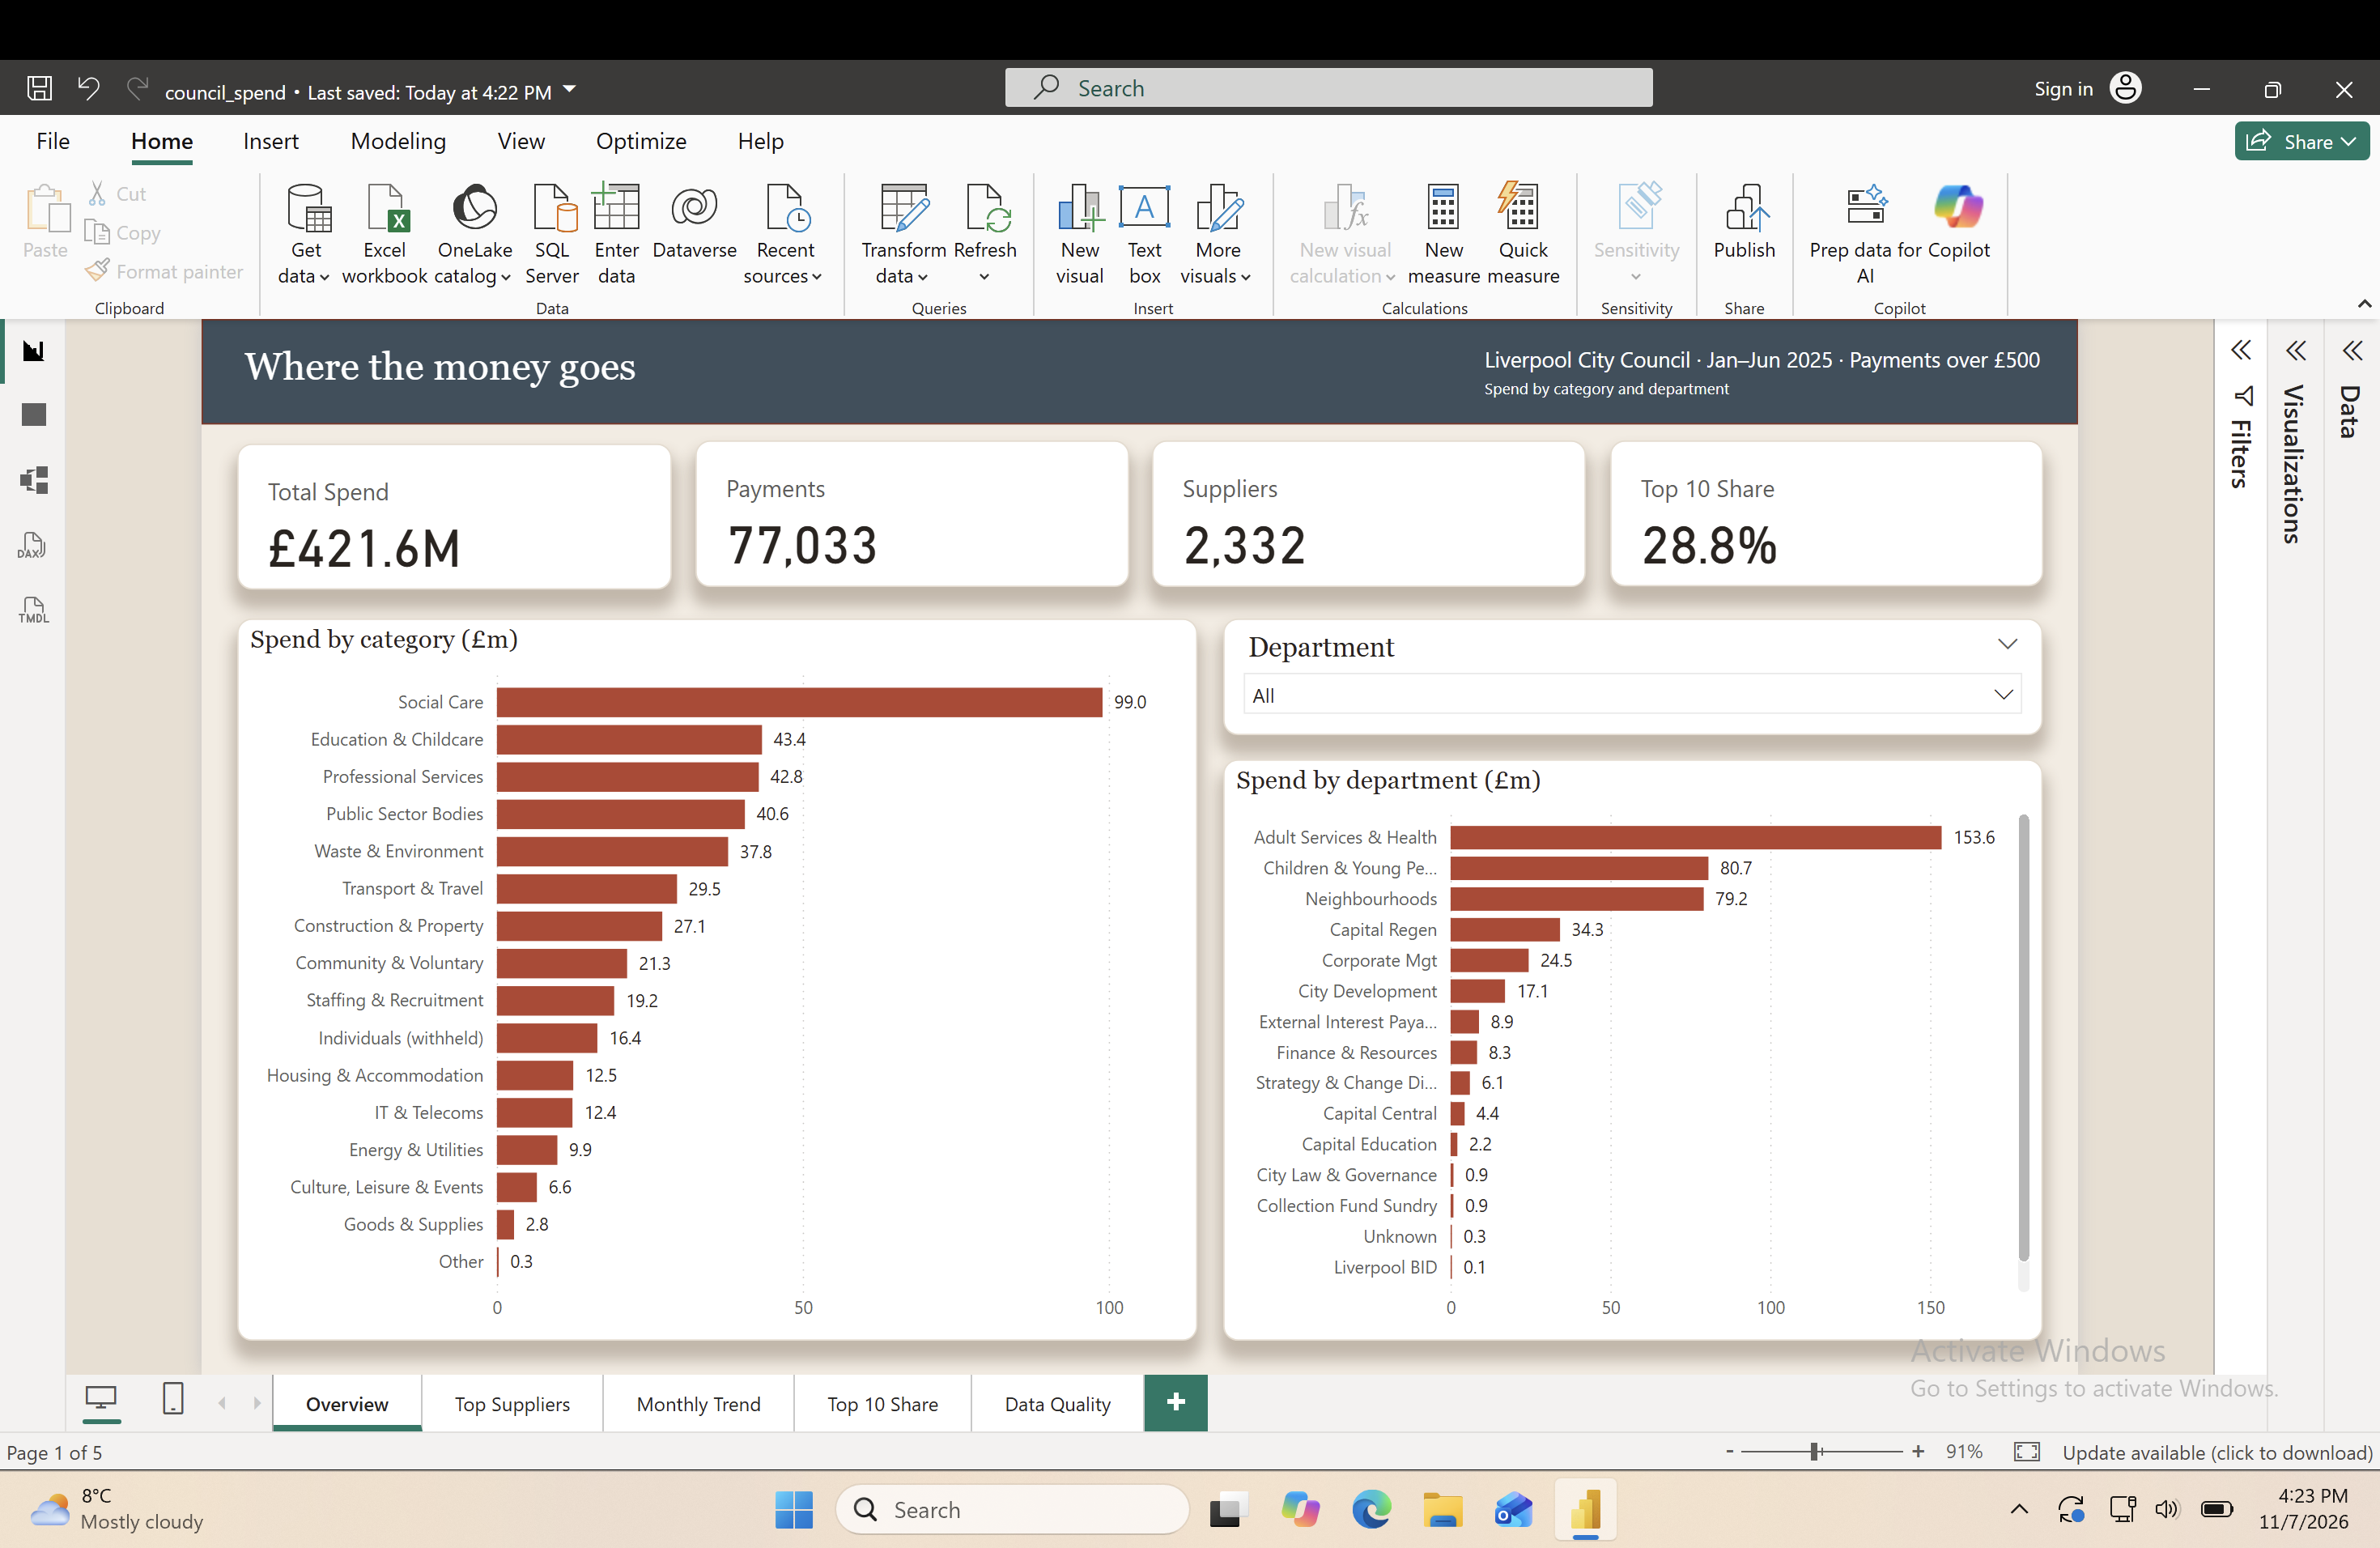

What the dashboard file says about the page in this screenshot:
{"tool":"powerbi","page":{"name":"Overview","canvas":[1280,720],"ordinal":0},"visuals":[{"type":"cardVisual","fields":{"Data":["fact_spend.Total Spend"]},"box":[24,84.6,296.6,99.7],"z":0},{"type":"cardVisual","fields":{"Data":["fact_spend.Payments Label"]},"box":[336.6,83.3,296,100],"z":1000},{"type":"cardVisual","fields":{"Data":["fact_spend.Suppliers Label"]},"box":[648.6,83.3,296,100],"z":2000},{"type":"cardVisual","fields":{"Data":["fact_spend.Top 10 Share"]},"box":[960.6,83.3,295.4,99.7],"z":3000},{"type":"clusteredBarChart","title":"Spend by category (£m)","fields":{"Category":["dim_category.category_name"],"Y":["fact_spend.Spend £m"]},"box":[24,204.5,655.1,492.3],"z":4000},{"type":"slicer","fields":{"Values":["dim_service_area.service_area"]},"box":[696.8,204.5,559.2,79.5],"z":5000},{"type":"shape","box":[0,0,1280,72],"z":6000},{"type":"textbox","box":[24.4,12.2,859.3,41.1],"z":7000},{"type":"textbox","box":[24,12,860,48],"z":8000},{"type":"textbox","box":[870.4,12.2,409.6,47.7],"z":9000},{"type":"clusteredBarChart","title":"Spend by department (£m)","fields":{"Category":["dim_service_area.service_area"],"Y":["fact_spend.Spend £m"]},"box":[696.8,300.4,559.2,396.4],"z":10000}]}

Visuals, with their boxes on the page's 1280x720 design canvas (x1, y1, x2, y2). These are canvas units, not pixel positions in the 2380x1548 screenshot, which may show the page scaled, cropped or inside an application window:
cardVisual - fact_spend.Total Spend: crop(24, 85, 321, 184)
cardVisual - fact_spend.Payments Label: crop(337, 83, 633, 183)
cardVisual - fact_spend.Suppliers Label: crop(649, 83, 945, 183)
cardVisual - fact_spend.Top 10 Share: crop(961, 83, 1256, 183)
"Spend by category (£m)" clusteredBarChart: crop(24, 204, 679, 697)
slicer - dim_service_area.service_area: crop(697, 204, 1256, 284)
shape: crop(0, 0, 1280, 72)
textbox: crop(24, 12, 884, 53)
textbox: crop(24, 12, 884, 60)
textbox: crop(870, 12, 1280, 60)
"Spend by department (£m)" clusteredBarChart: crop(697, 300, 1256, 697)
